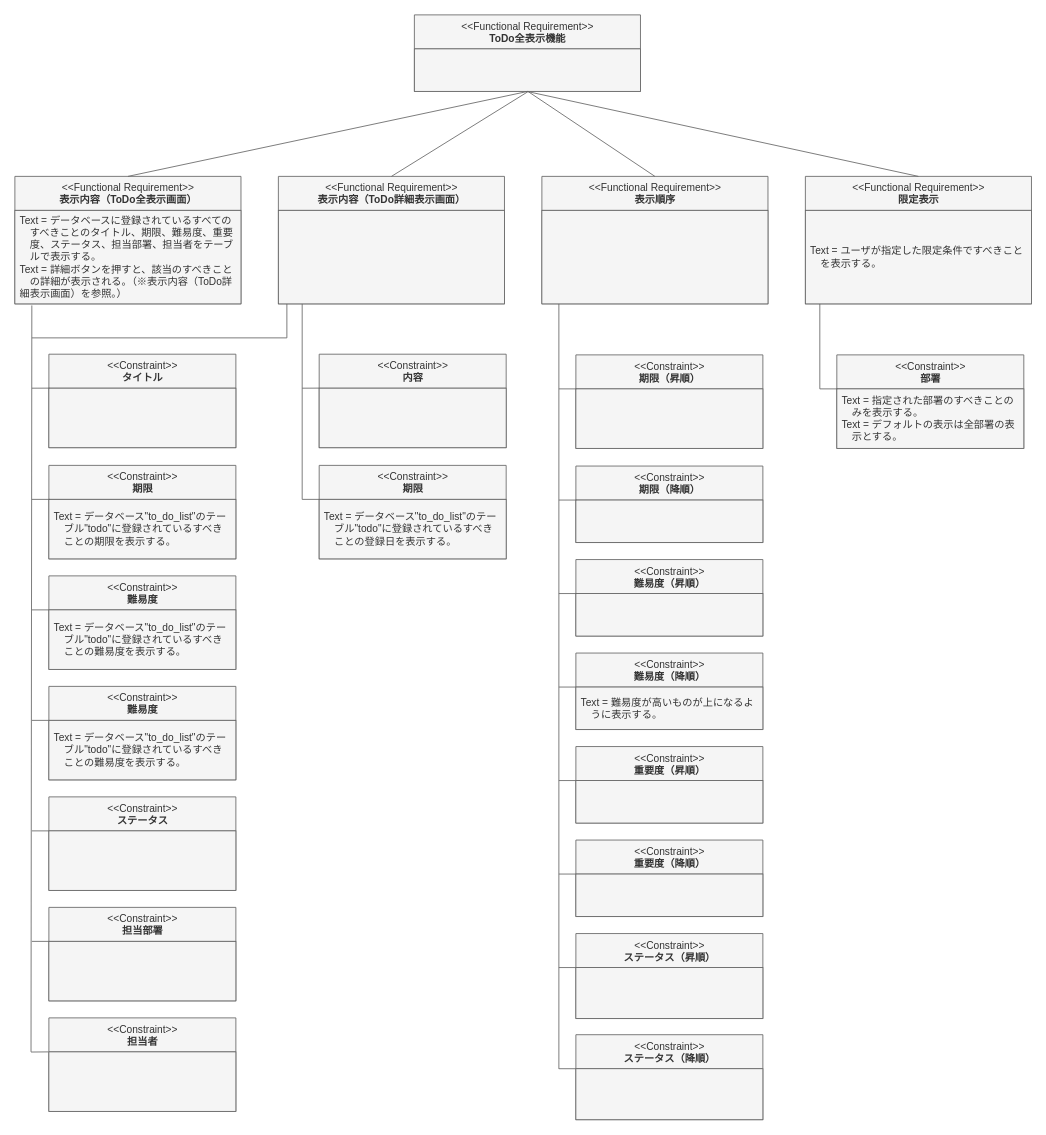
The diagram is 1046 pixels wide and 1135 high, and some of its shapes have lost their labels. Each missing label, with the centre of its shape:
Text = ToDo全表示画面にて選択されたすべ きことのタイトル、内容、登録日、期限、難 易度、重要度、ステータス、担当部署、担当 者を表示する。: [391,257]
Text = ステータスが"キャンセル"→ "完了"→"進行中"→"未着手"の順にな るように表示する。: [669,1094]
Text = ステータスが"未着手"→"進行中" →"完了"→"キャンセル"の順になるよ うに表示する。: [669,993]
Text = データベース"to_do_list"のテー ブル"todo"に登録されているすべき ことのステータスを表示する。: [142,860]
Text = データベース"to_do_list"のテー ブル"todo"に登録されているすべき ことのタイトルを表示する。: [142,417]
Text = データベース"to_do_list"のテー ブル"todo"に登録されているすべき ことの内容を表示する。: [412,417]
Text = データベース"to_do_list"のテー ブル"todo"に登録されているすべき ことの担当者の部署を表示する。: [142,971]
Text = データベース"to_do_list"のテー ブル"todo"に登録されているすべき ことの担当者を表示する。: [142,1081]
Text = データベースに登録されているすべて のすべきことを表示する。: [527,69]
Text = ユーザが指定した順序ですべきことを表 示する。: [654,257]
Text = 期限が短いものが上になるよう に表示する。 Text = デフォルトの表示は期限（昇順） とする。: [669,418]
Text = 期限が長いものが上になるよう に表示する。: [669,521]
Text = 重要度が低いものが上になるよ うに表示する。: [669,801]
Text = 重要度が高いものが上になるよ うに表示する。: [669,895]
Text = 難易度が低いものが上になるよ うに表示する。: [669,614]
